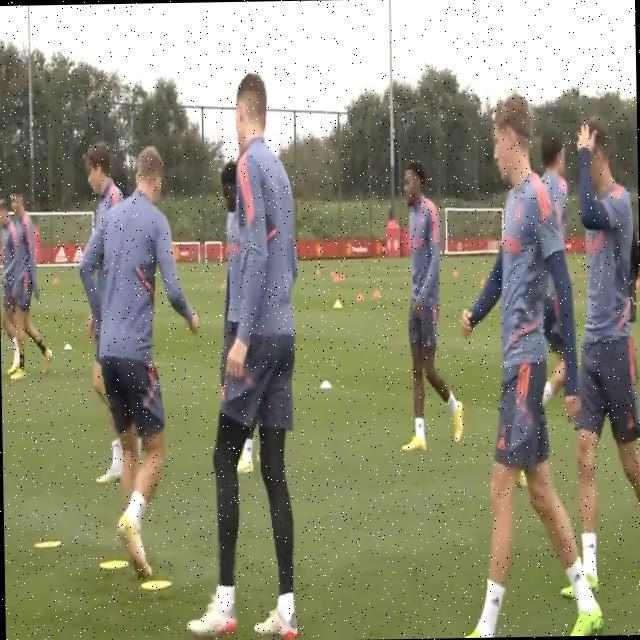Adidas: (54, 243, 68, 265), (72, 243, 84, 263), (497, 435, 508, 451)
